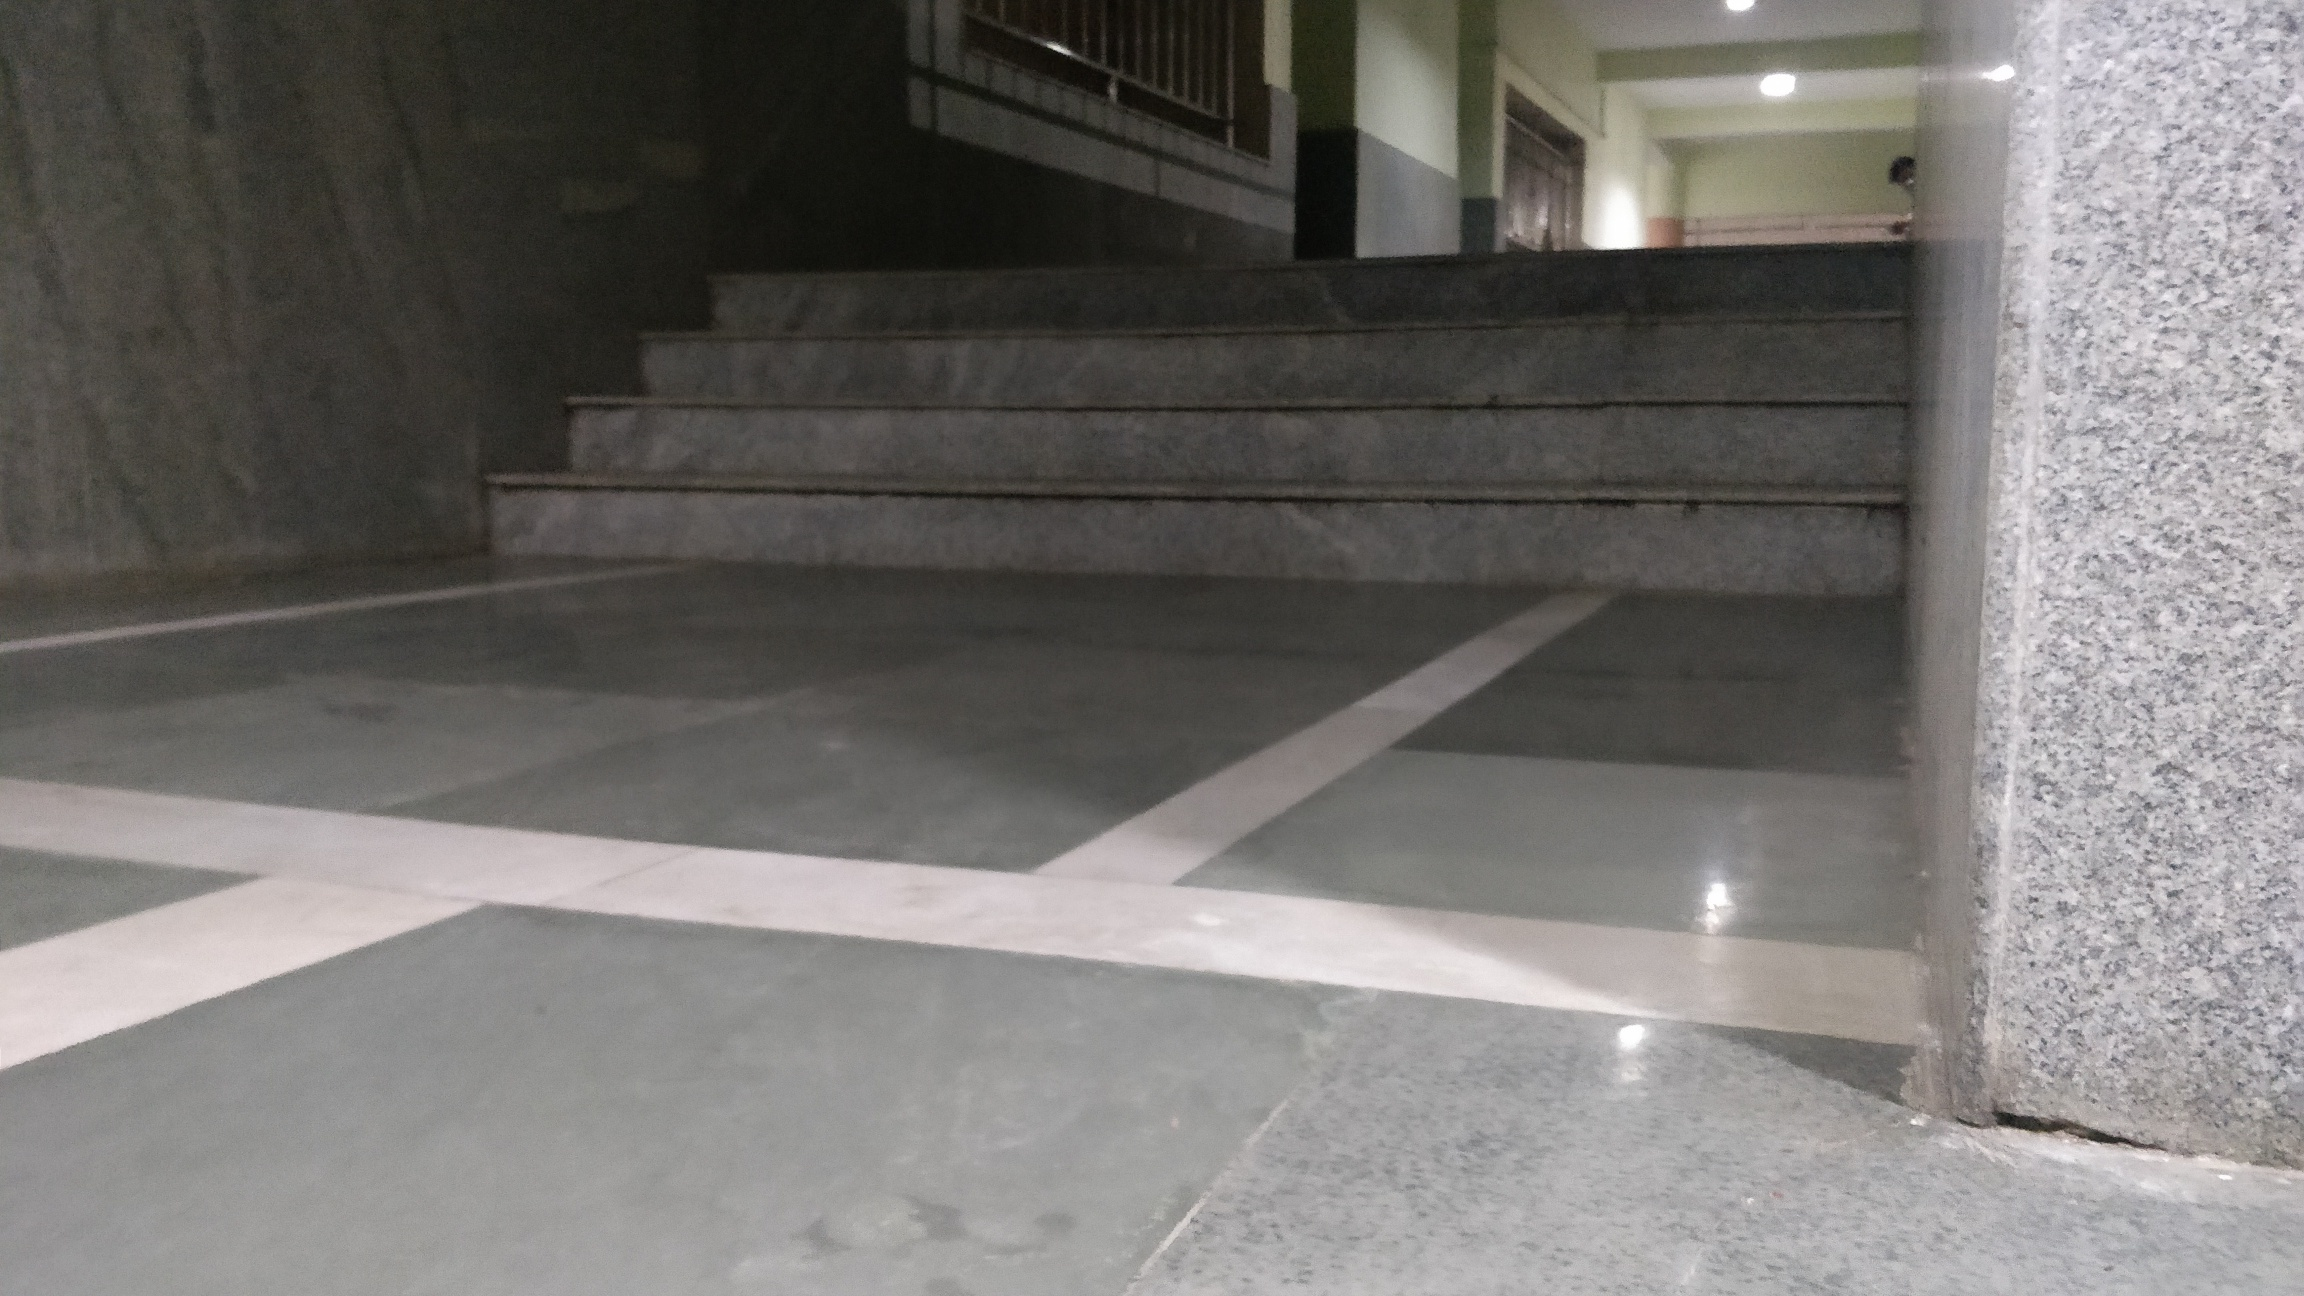stairs_up: (465, 237, 1904, 574)
